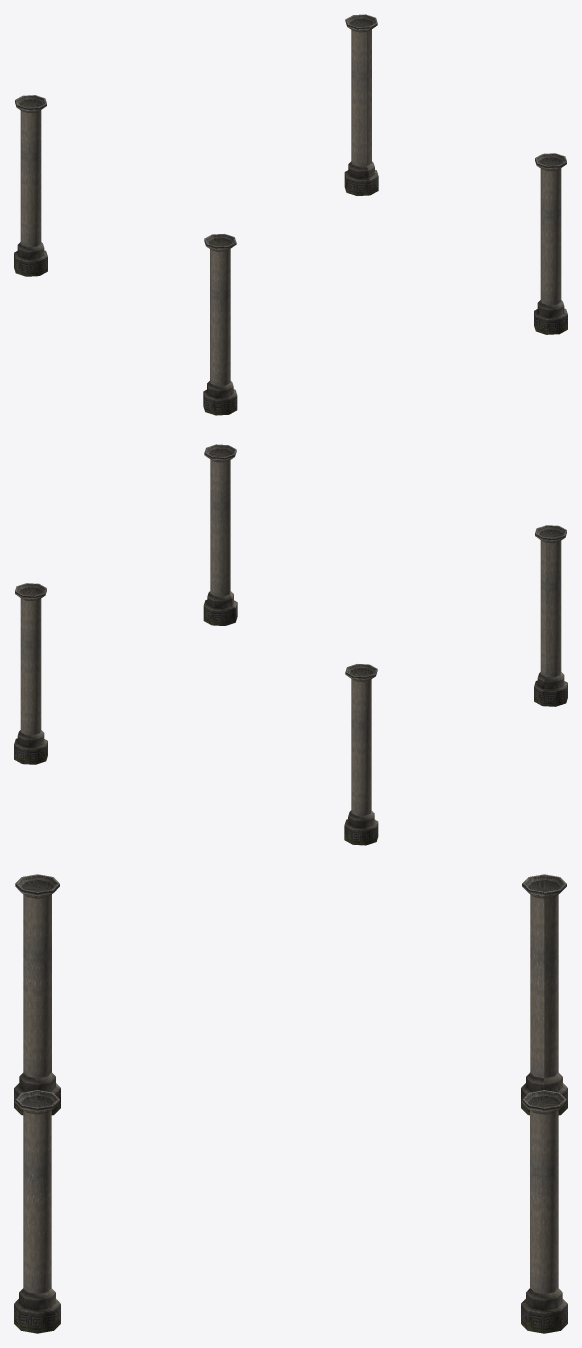
The model's file is zhu2.obj.
The picture shows the model from 3 angles, top to bottom: view 1: azimuth 30°, elevation 25°; view 2: azimuth 150°, elevation 25°; view 3: azimuth 270°, elevation 25°; orthographic projection. The views are drawn at different scales.
Visible parts, largest first — view 1: zhu2; view 2: zhu2; view 3: zhu2.
Boxes of the visible parts, x1,y1,x2,y2 form: zhu2: (14, 14, 567, 415); zhu2: (14, 444, 567, 845); zhu2: (14, 874, 567, 1333).
Bounding box in the file's own units: 725 × 322 × 721.
